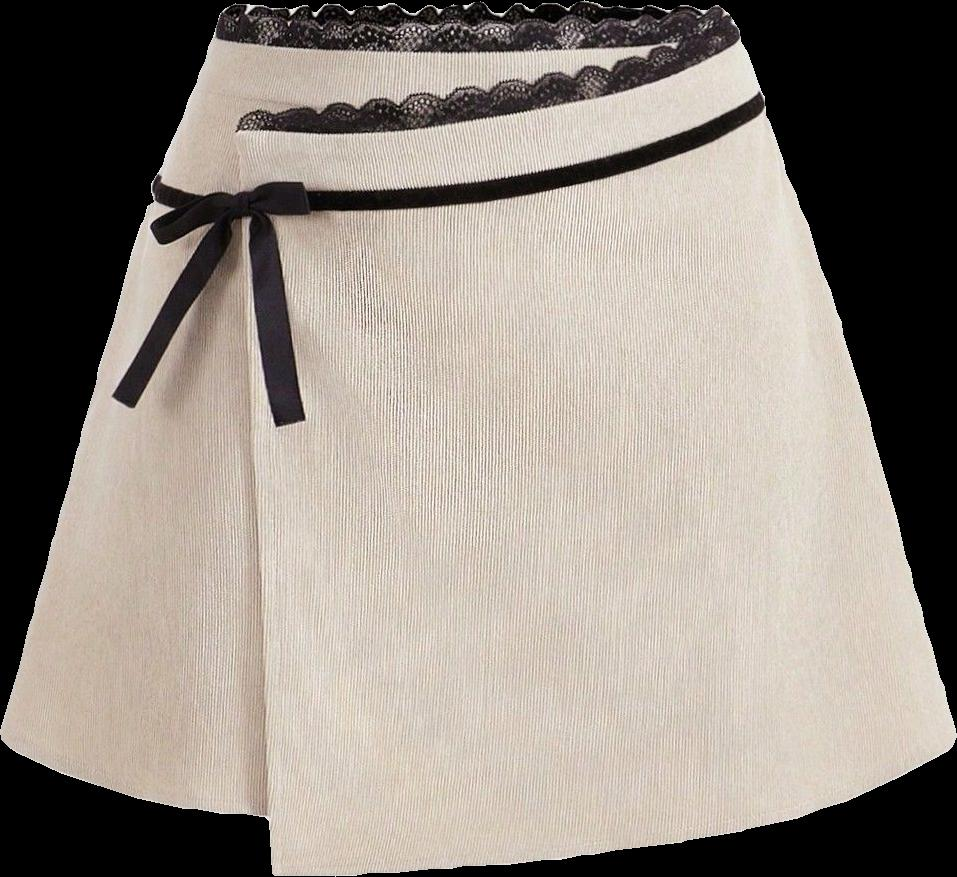Hemline: (227, 32, 956, 876), (0, 729, 278, 823)
Waistline: (210, 24, 731, 56)
